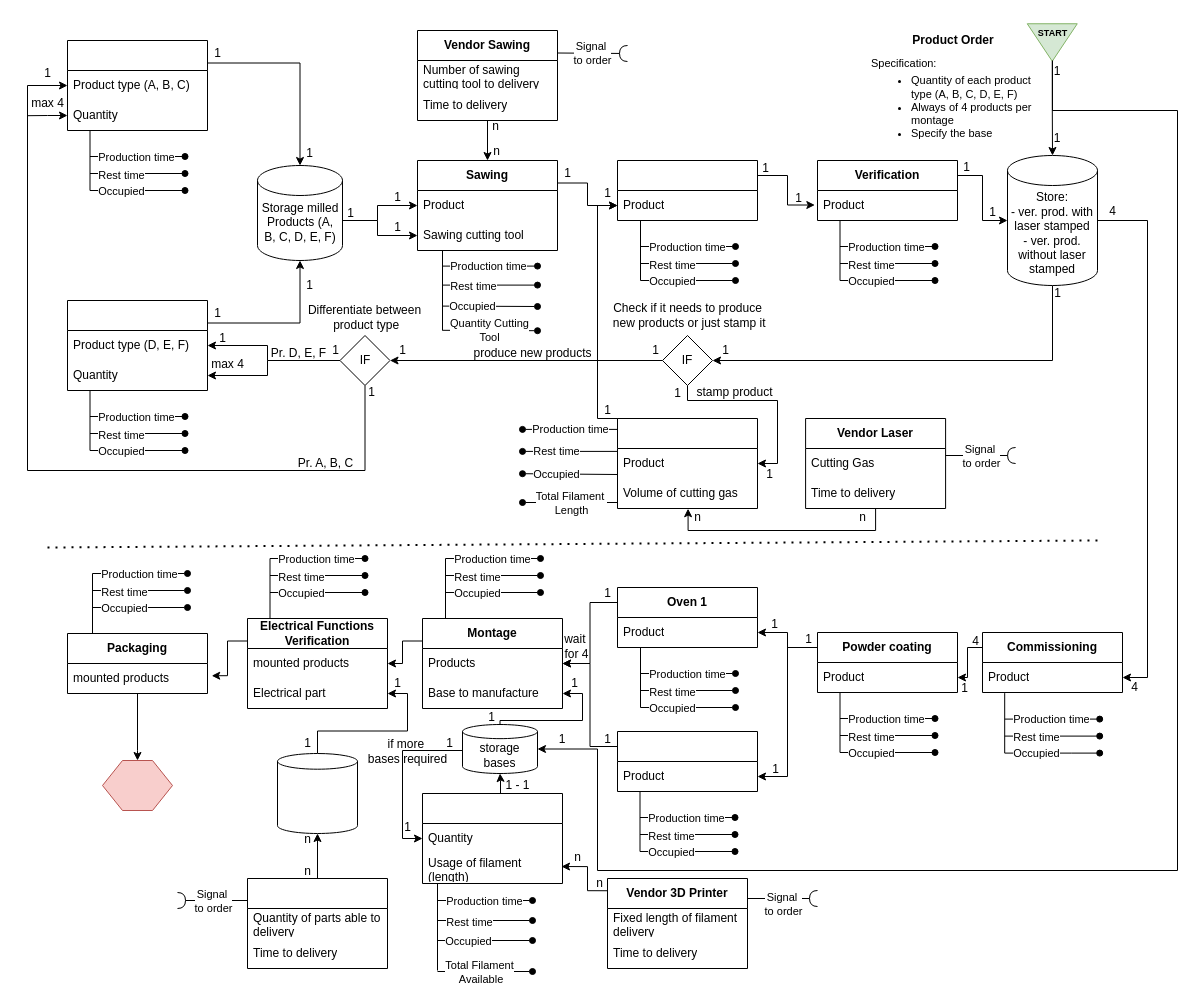
Image size: 1203x1002. Some labels were removed from this diagram. The shapes that lost their labels are listed below. From the top down, each one's box as (x1, y1, x2, y2) in pixels, then its label:
(66, 40, 208, 130): Milling 1
(616, 160, 758, 220): Cleaning & Drying
(66, 300, 208, 390): Milling 2
(616, 418, 758, 508): Laser
(616, 730, 758, 792): Oven 2
(102, 760, 172, 810): STOP
(276, 752, 358, 834): storage electrical parts
(422, 792, 562, 884): 3D Printer
(246, 878, 388, 968): Vendor Electrical Parts
